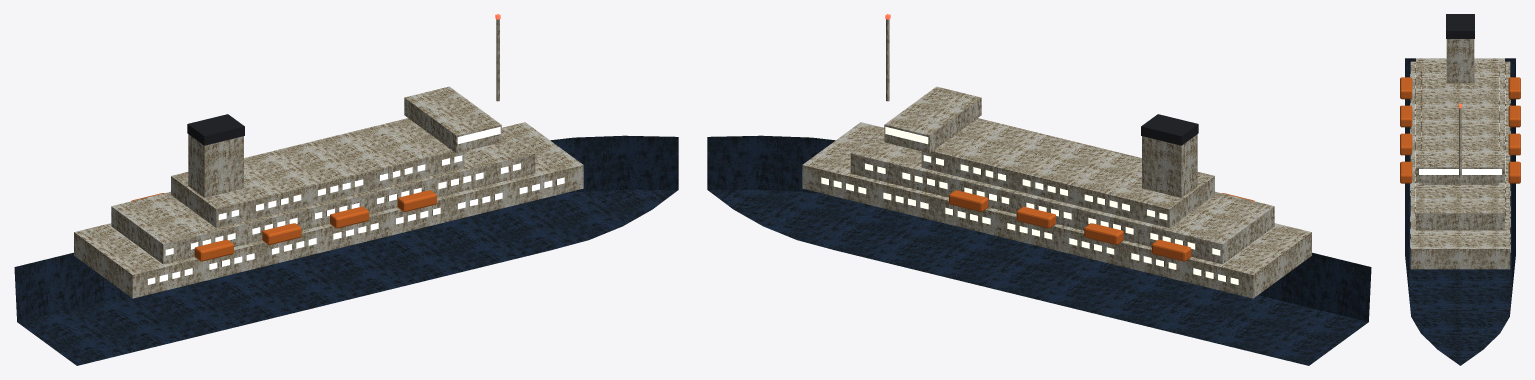
Rendered from ferry.glb.
3 renders of one model, left to right at view 1: azimuth 30°, elevation 25°; view 2: azimuth 150°, elevation 25°; view 3: azimuth 270°, elevation 25°, orthographic. The views are drawn at different scales.
Parts seen in each view (by area): view 1: ferry; view 2: ferry; view 3: ferry.
Boxes of the visible parts, x1=… form: ferry: x1=14, y1=14, x2=678, y2=365; ferry: x1=707, y1=14, x2=1371, y2=365; ferry: x1=1400, y1=14, x2=1520, y2=365.
Size of the model in its own units: 112 by 37.1 by 21.8.
1 material, 1 textured.
